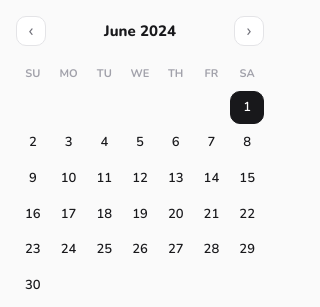
Test: Calendar › navigates to the previous month when Previous month is clicked
Click the button named "Previous month" at (31, 31), box [16, 16, 46, 46]
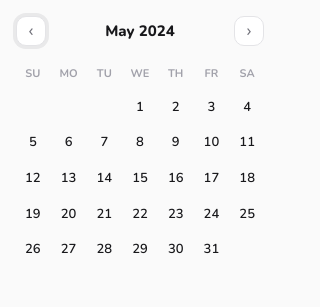
expect the text "May 2024" is shown: met, box [105, 20, 175, 42]
